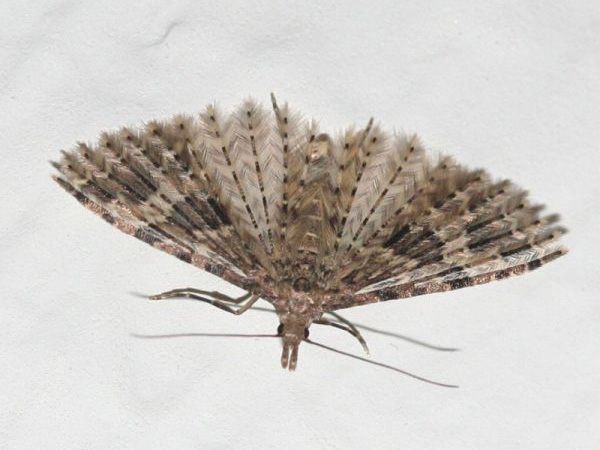Alucitidae: (45, 81, 576, 393)
moth: (47, 83, 578, 395)
